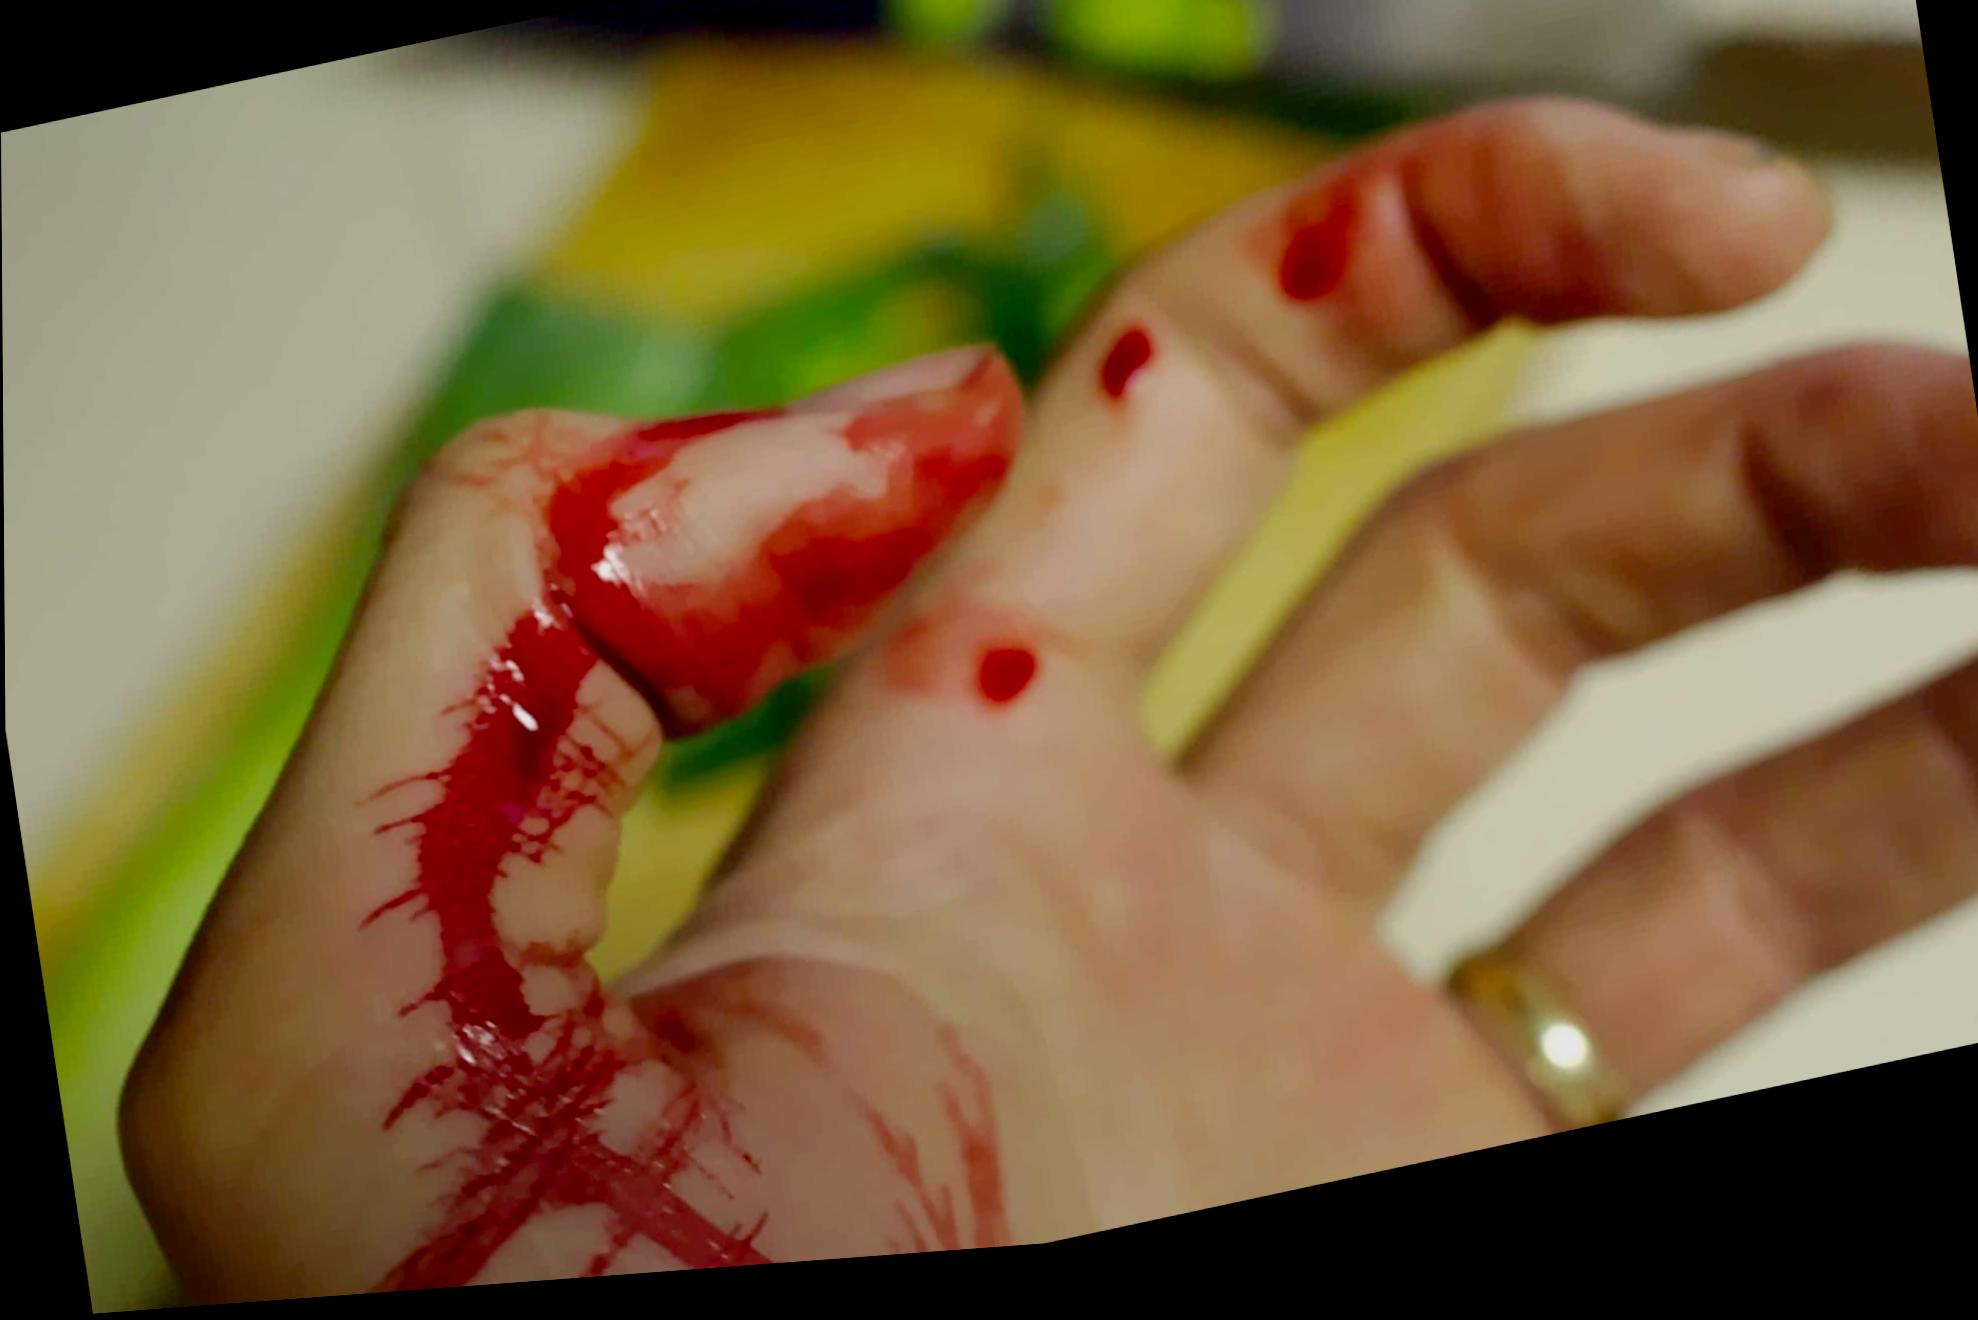Fire: (358, 368, 1021, 1299), (867, 194, 1364, 753)
